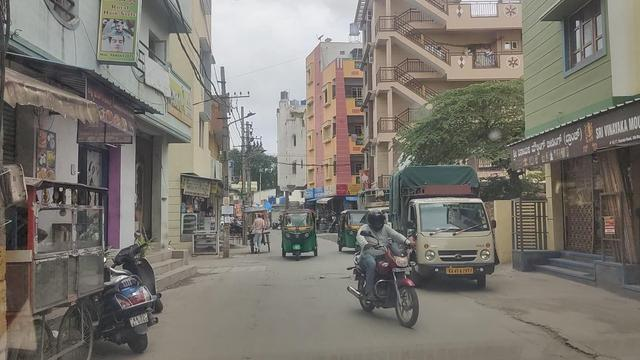HMV: (397, 165, 498, 286)
LMV: (352, 213, 421, 322), (280, 209, 317, 261)
RoadDamages: (520, 311, 594, 360), (203, 263, 270, 277), (312, 272, 351, 286)
